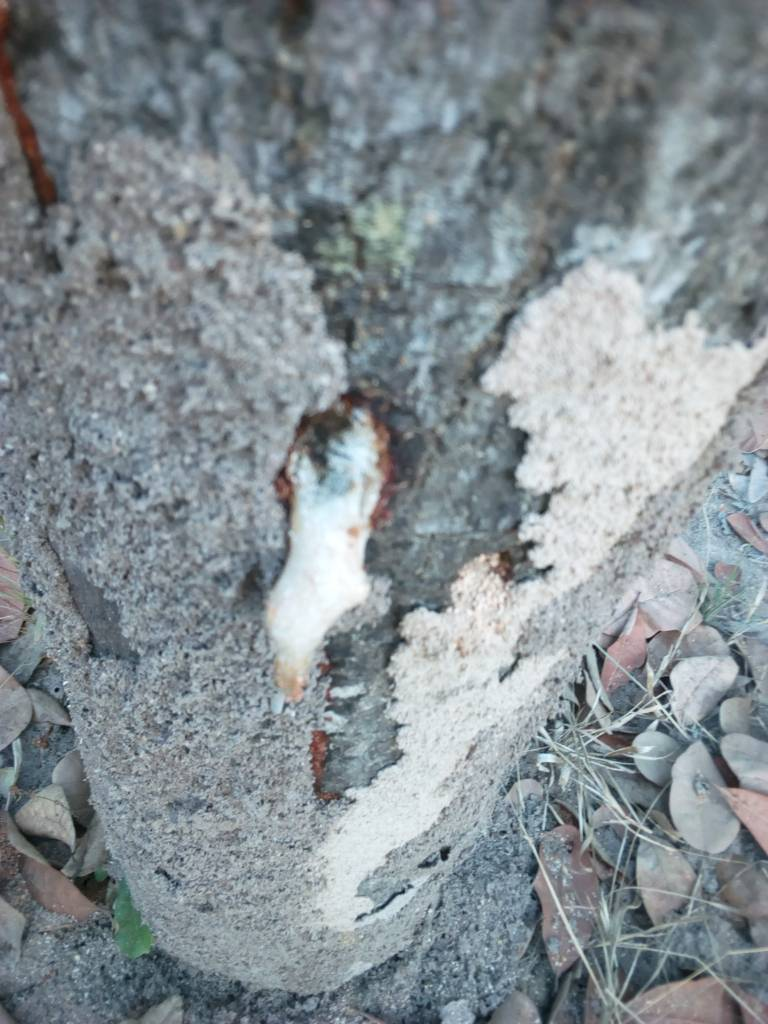Termites: (5, 188, 285, 672), (83, 677, 515, 971)
